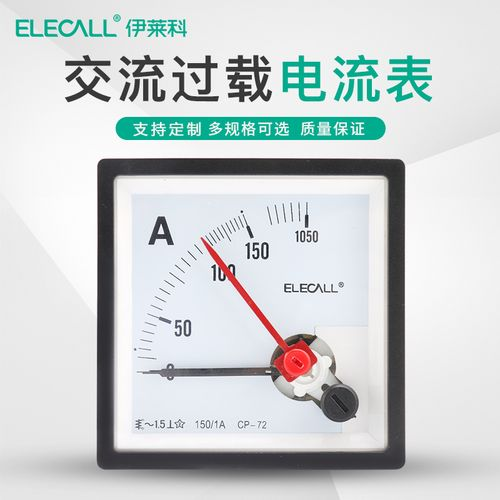pointer: (113, 175, 389, 451)
